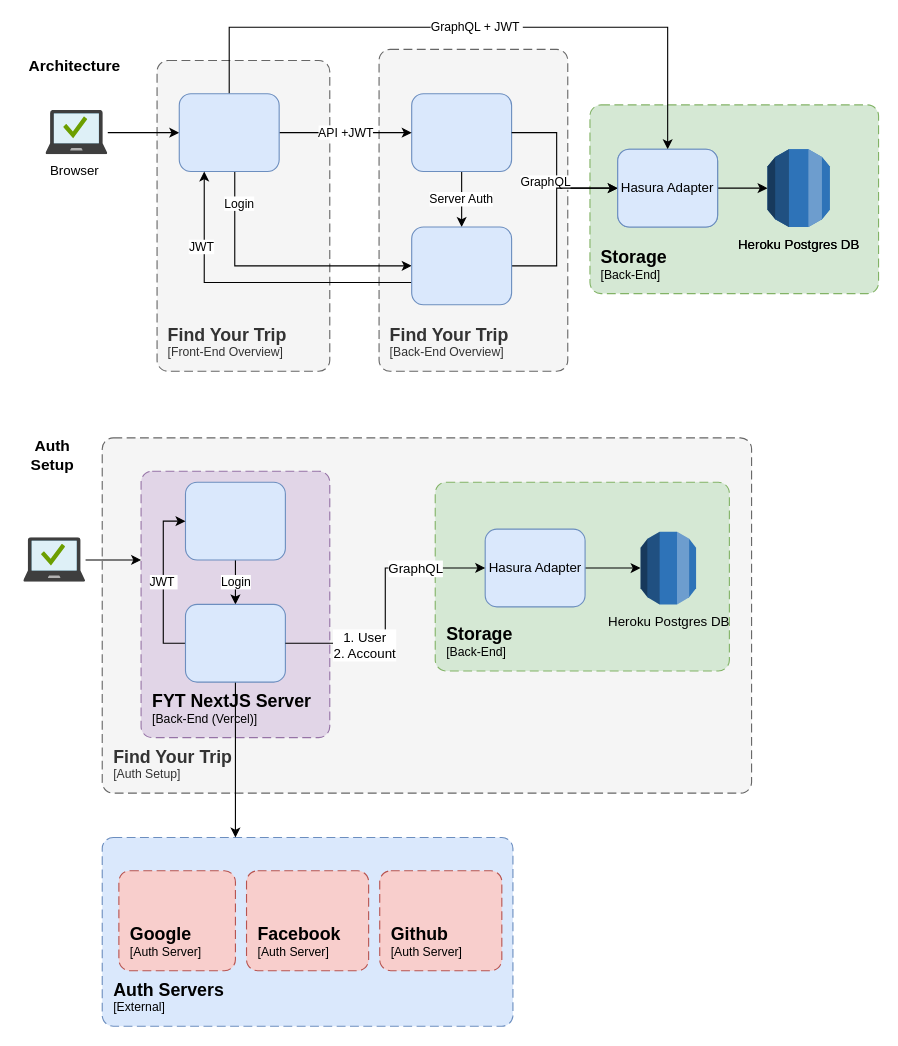
Some shapes in this 898 by 1046 pixel diagram are drawn without their labels. Each missing label, with the centre of its shape:
Auth Adapter: the point at 234,642
Auth Layer: the point at 461,265
FYT Business Code: the point at 234,520
FYT NextJS Frontend: the point at 228,132
FYT NextJS Server (Vercel): the point at 461,132
